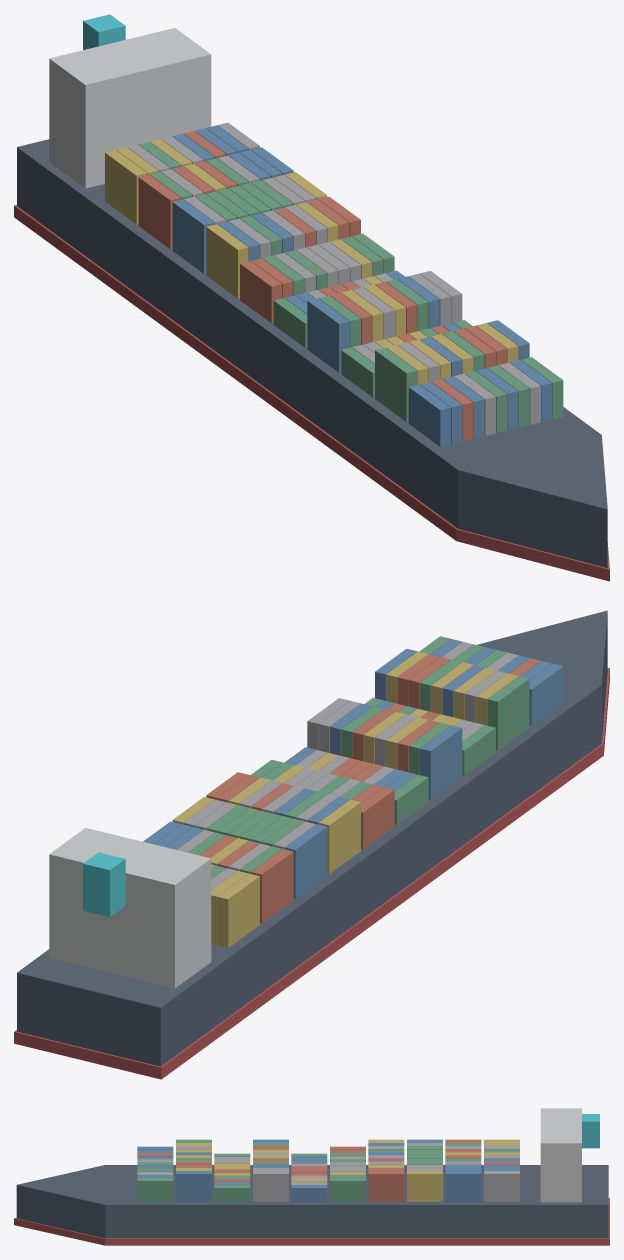
File: ship.glb
The picture shows the model from 3 angles, top to bottom: view 1: azimuth 30°, elevation 25°; view 2: azimuth 150°, elevation 25°; view 3: azimuth 270°, elevation 25°; orthographic projection. The views are drawn at different scales.
Visible parts, largest first — view 1: geometry_0; view 2: geometry_0; view 3: geometry_0.
Part boxes in pixels (left/top/right/bottom): geometry_0: left=14, top=14, right=609, bottom=581; geometry_0: left=14, top=610, right=609, bottom=1079; geometry_0: left=14, top=1108, right=609, bottom=1245.
Size of the model in its own units: 32.8 by 40 by 201.
